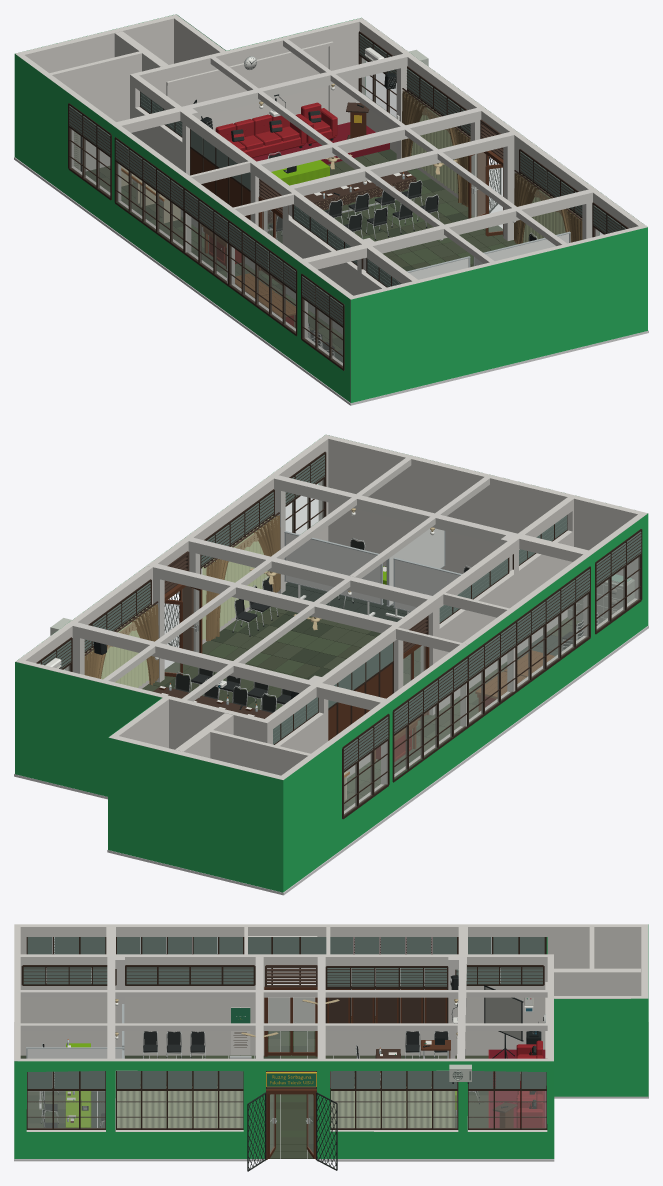
The model's file is serbaguna_indoor.glb.
The picture shows the model from 3 angles, top to bottom: view 1: azimuth 30°, elevation 25°; view 2: azimuth 150°, elevation 25°; view 3: azimuth 270°, elevation 25°; orthographic projection. The views are drawn at different scales.
Parts seen in each view (by area): view 1: Plane.001, Plane.006, Dinding_Depan_Panggung, Dinding_Kiri, Keramik_Hijau_40cm, Dinding_Kanan.003, Jendela_Kanan_Panggung.003, Jendela_Kanan_Panggung.002, Jendela_Kanan_Belakang.004, Dinding_Kanan, Jendela_Kanan_Belakang.003, Jendela_Kanan_Belakang.002 (+40 smaller); view 2: Plane, Plane.006, Dinding_Belakang, Keramik_Hijau_40cm, Dinding_Kiri, Dinding_Depan_Panggung, Dinding_Kanan.003, Jendela_Kanan_Panggung.002, Jendela_Kanan_Panggung.003, Dinding_Kanan.002, Jendela_Kanan_Belakang.004, Jendela_Kanan_Belakang.003 (+33 smaller); view 3: Dinding_Kiri, Plane, Plane.001, Dinding_Kanan.003, Jendela_Kanan_Panggung.001, Jendela_Kanan_Panggung, Keramik_Hijau_40cm, Jendela_Kayu_Kiri, Jendela_Kanan_Belakang.001, Jendela_Kanan_Belakang, Tirai_Tipis_Hijau_Pucat.001, Tirai_Tipis_Hijau_Pucat (+45 smaller).
Part boxes in pixels (bbox=[...]): Plane.001: bbox=[351, 145, 647, 402]; Plane.006: bbox=[14, 54, 350, 402]; Dinding_Depan_Panggung: bbox=[49, 18, 365, 180]; Dinding_Kiri: bbox=[133, 75, 417, 334]; Keramik_Hijau_40cm: bbox=[85, 149, 517, 362]; Dinding_Kanan.003: bbox=[15, 14, 250, 298]; Jendela_Kanan_Panggung.003: bbox=[114, 137, 185, 253]; Jendela_Kanan_Panggung.002: bbox=[228, 220, 297, 336]; Jendela_Kanan_Belakang.004: bbox=[183, 187, 231, 285]; Dinding_Kanan: bbox=[359, 20, 525, 198]; Jendela_Kanan_Belakang.003: bbox=[68, 103, 111, 200]; Jendela_Kanan_Belakang.002: bbox=[301, 273, 344, 370]; Plane: bbox=[15, 567, 283, 892]; Plane.006: bbox=[283, 513, 648, 891]; Dinding_Belakang: bbox=[323, 434, 647, 579]; Keramik_Hijau_40cm: bbox=[142, 566, 580, 810]; Dinding_Kiri: bbox=[265, 497, 573, 777]; Dinding_Depan_Panggung: bbox=[15, 659, 310, 775]; Dinding_Kanan.003: bbox=[109, 610, 513, 892]; Jendela_Kanan_Panggung.002: bbox=[515, 566, 590, 691]; Jendela_Kanan_Panggung.003: bbox=[392, 656, 468, 782]; Dinding_Kanan.002: bbox=[443, 513, 645, 712]; Jendela_Kanan_Belakang.004: bbox=[467, 620, 517, 727]; Jendela_Kanan_Belakang.003: bbox=[342, 713, 389, 819]; Dinding_Kiri: bbox=[20, 954, 547, 1055]; Plane: bbox=[317, 998, 648, 1158]; Plane.001: bbox=[14, 1061, 265, 1158]; Dinding_Kanan.003: bbox=[247, 924, 648, 1023]; Jendela_Kanan_Panggung.001: bbox=[116, 1071, 243, 1129]; Jendela_Kanan_Panggung: bbox=[330, 1071, 458, 1129]; Keramik_Hijau_40cm: bbox=[20, 1031, 488, 1158]; Jendela_Kayu_Kiri: bbox=[325, 966, 448, 1023]; Jendela_Kanan_Belakang.001: bbox=[26, 1071, 105, 1129]; Jendela_Kanan_Belakang: bbox=[468, 1071, 547, 1129]; Tirai_Tipis_Hijau_Pucat.001: bbox=[117, 1087, 242, 1127]; Tirai_Tipis_Hijau_Pucat: bbox=[331, 1087, 454, 1127].
Bounding box in the file's own units: 11.16 × 3.49 × 20.09.
